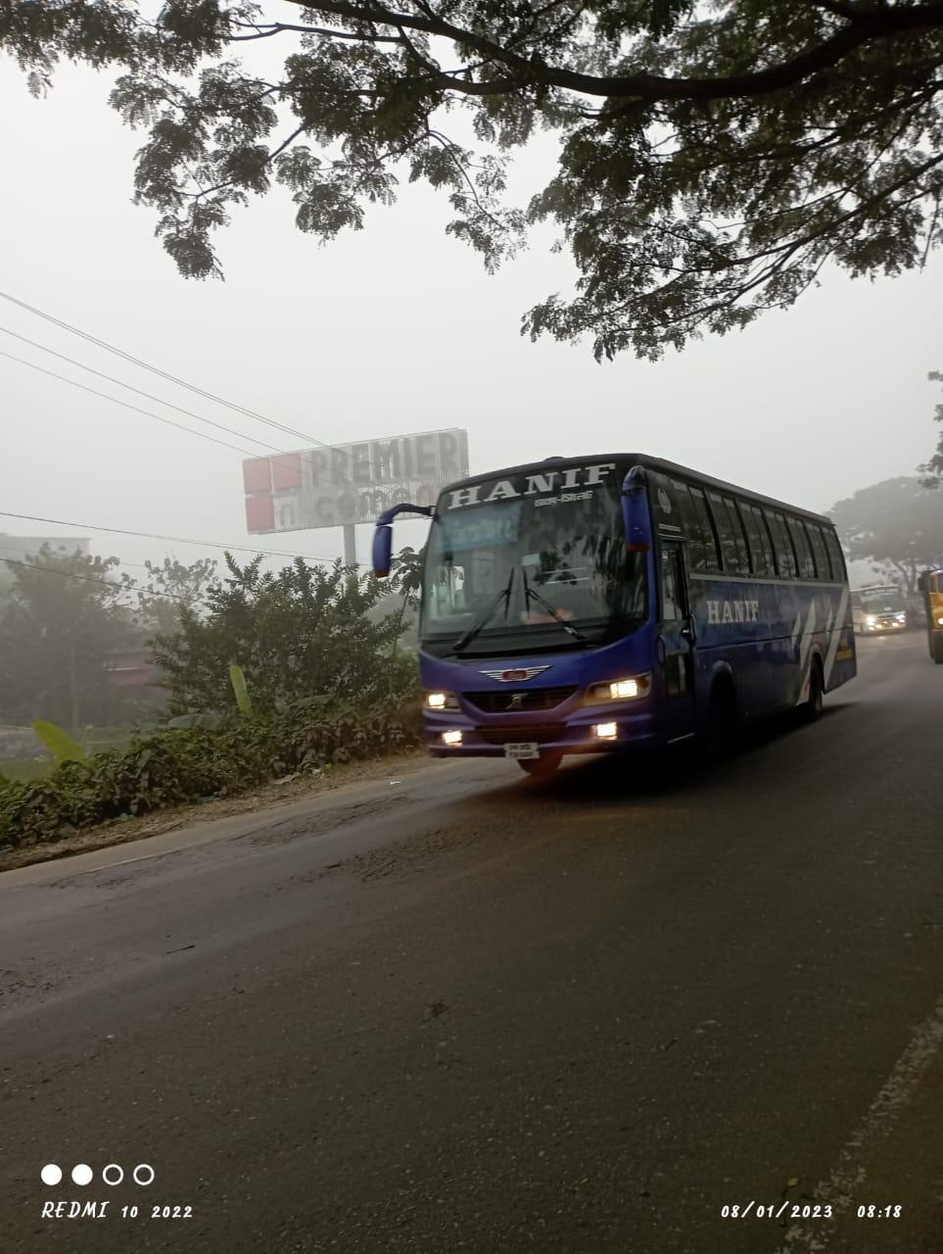Bus: (377, 444, 860, 741), (852, 577, 915, 647)
